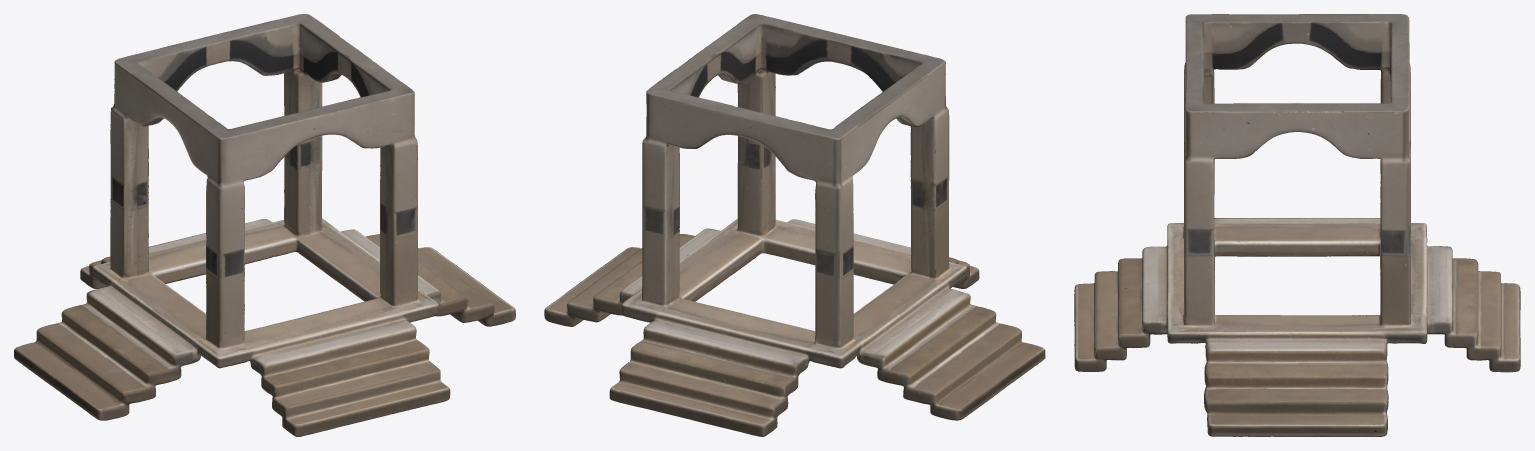
The model's file is pavilion-optimized.glb.
The picture shows the model from 3 angles, left to right: view 1: azimuth 30°, elevation 25°; view 2: azimuth 150°, elevation 25°; view 3: azimuth 270°, elevation 25°; orthographic projection. The views are drawn at different scales.
Size of the model in its own units: 2 by 1.21 by 1.8.
1 material, 1 textured.
